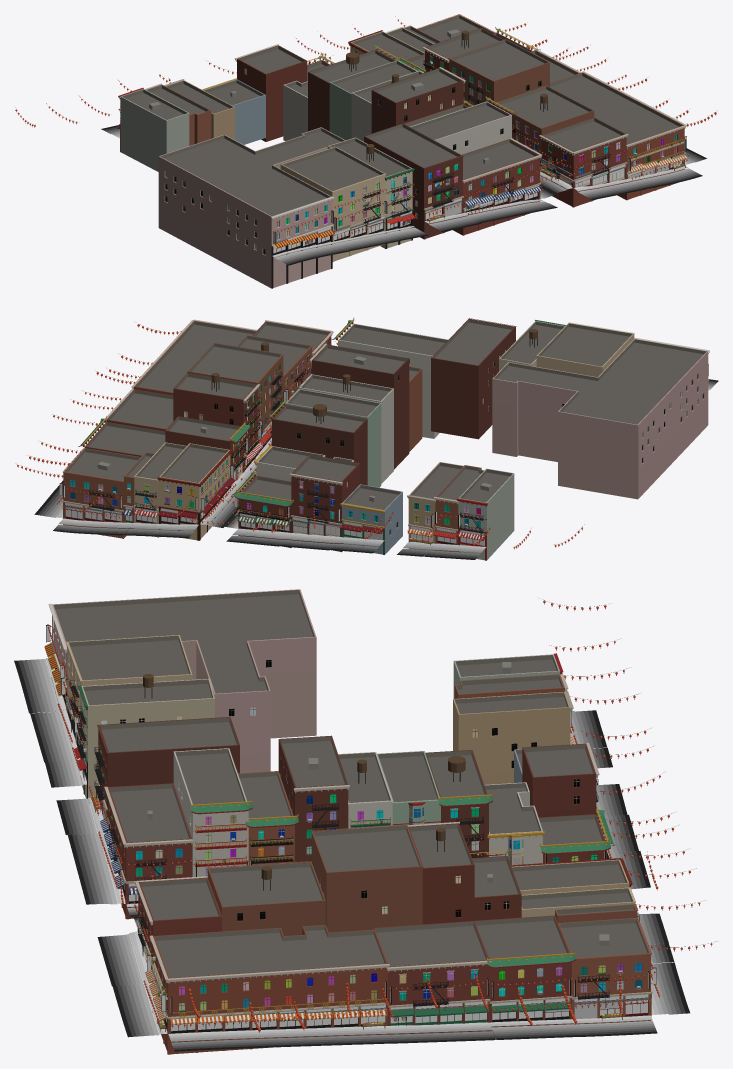
3 views of the same model, one above another, from view 1: azimuth 30°, elevation 25°; view 2: azimuth 150°, elevation 25°; view 3: azimuth 270°, elevation 25° (orthographic). The views are drawn at different scales.
Visible parts, largest first — view 1: L0_roof, L0_brickred, L0_stucco, L0_d_stucco, L0_stone, L0_ground, L0_d_metal, L0_d_brickred, L0_cwin, L0_brick, L0_d_fabric, L0_d_stone (+8 smaller); view 2: L0_roof, L0_stucco, L0_brickred, L0_d_stucco, L0_stone, L0_d_brickred, L0_ground, L0_d_metal, L0_brick, L0_d_fabric, L0_clear, L0_cwin (+6 smaller); view 3: L0_roof, L0_brickred, L0_ground, L0_stucco, L0_stone, L0_d_metal, L0_brick, L0_d_brickred, L0_d_paint, L0_d_fabric, L0_cwin, L0_lantern (+9 smaller).
Boxes of the visible parts, <box> form: L0_roof: <box>122,15,682,216</box>; L0_brickred: <box>194,50,684,239</box>; L0_stucco: <box>158,45,511,288</box>; L0_d_stucco: <box>120,50,406,248</box>; L0_stone: <box>118,14,686,246</box>; L0_ground: <box>101,125,706,265</box>; L0_d_metal: <box>35,16,717,255</box>; L0_d_brickred: <box>189,56,677,235</box>; L0_cwin: <box>276,50,676,239</box>; L0_brick: <box>280,164,385,261</box>; L0_d_fabric: <box>16,21,715,248</box>; L0_d_stone: <box>119,55,684,288</box>; L0_roof: <box>65,319,706,509</box>; L0_stucco: <box>159,340,708,560</box>; L0_brickred: <box>63,327,515,551</box>; L0_d_stucco: <box>164,360,638,559</box>; L0_stone: <box>62,318,709,533</box>; L0_d_brickred: <box>69,343,478,547</box>; L0_ground: <box>34,379,718,559</box>; L0_d_metal: <box>39,324,708,546</box>; L0_brick: <box>134,334,634,554</box>; L0_d_fabric: <box>18,327,582,549</box>; L0_clear: <box>65,432,484,545</box>; L0_cwin: <box>70,356,480,526</box>; L0_roof: <box>53,590,648,977</box>; L0_brickred: <box>98,729,650,1054</box>; L0_ground: <box>14,658,689,1051</box>; L0_stucco: <box>52,615,542,876</box>; L0_stone: <box>48,589,652,1019</box>; L0_d_metal: <box>46,600,715,1033</box>; L0_brick: <box>67,646,570,784</box>; L0_d_brickred: <box>98,682,642,1010</box>; L0_d_paint: <box>58,651,630,1026</box>; L0_d_fabric: <box>44,603,711,1032</box>; L0_cwin: <box>136,794,641,1010</box>; L0_lantern: <box>47,601,712,1031</box>.
Bounding box in the file's own units: 154 × 32.81 × 123.
